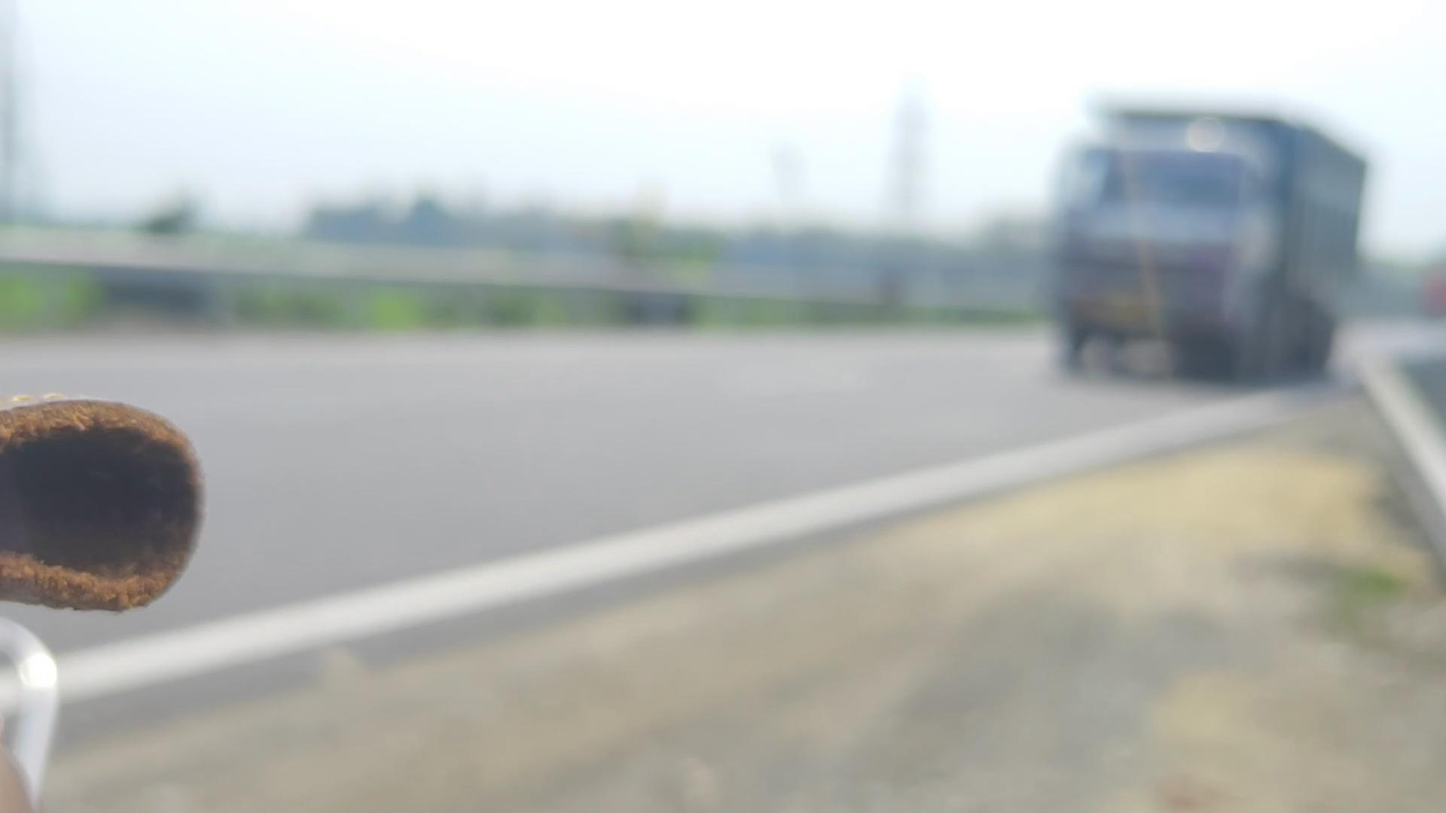truck: (1045, 100, 1368, 390)
